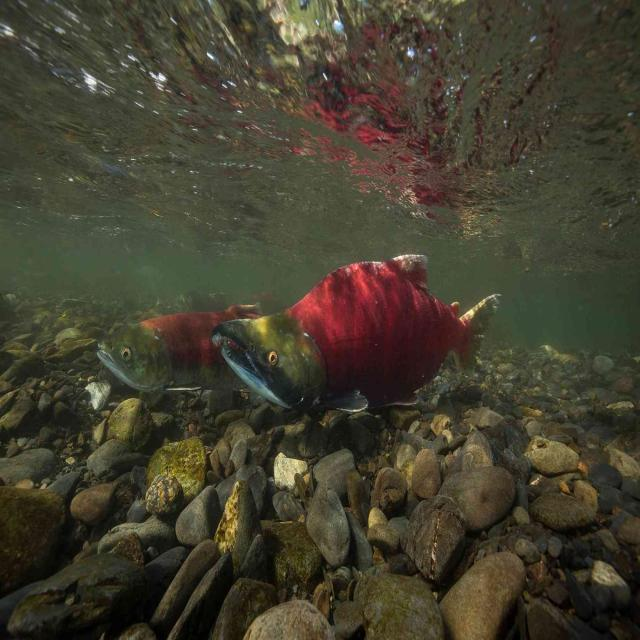salmon: (210, 239, 515, 429), (79, 288, 281, 437)
